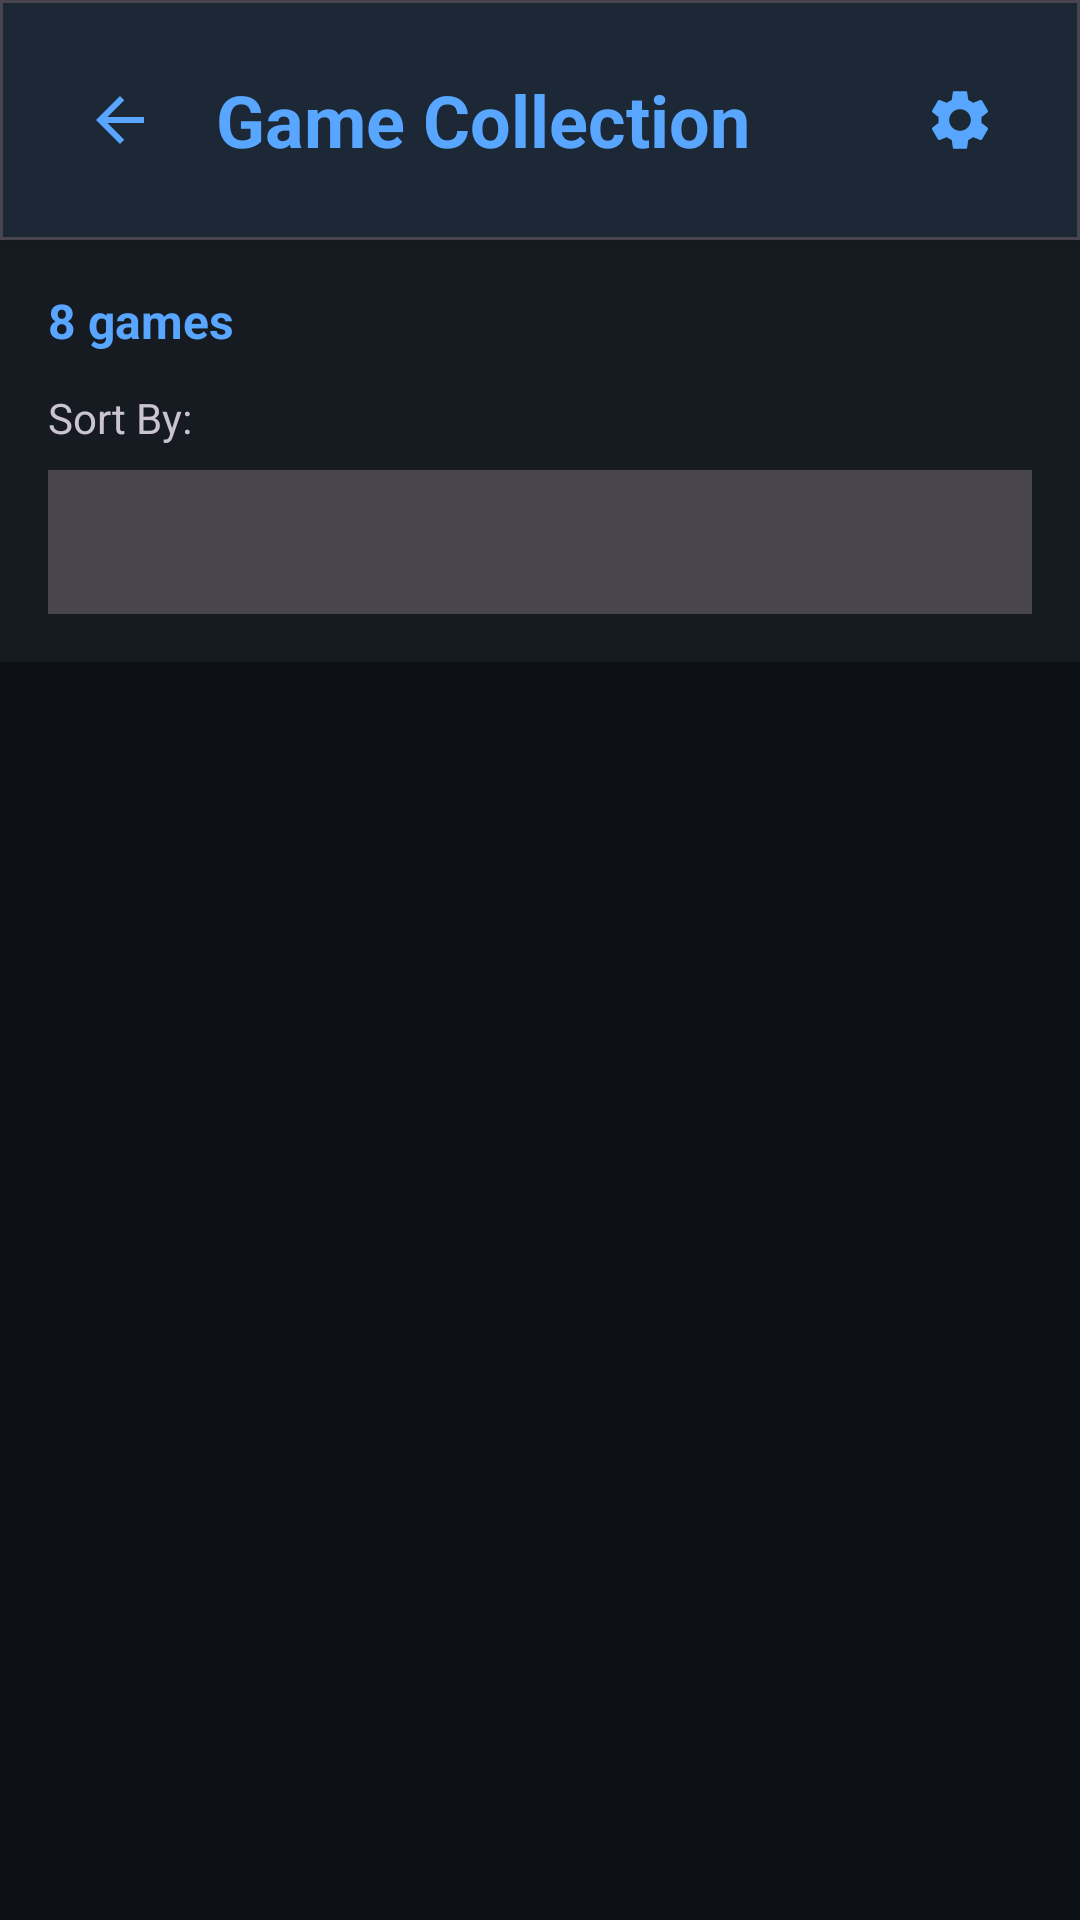

Locate icon controls on the screen. Image size 1080px x 1920px, boxes as (x1, y1, x2, y2).
Back: (96, 96, 144, 144)
HUD Settings: (932, 91, 988, 149)
